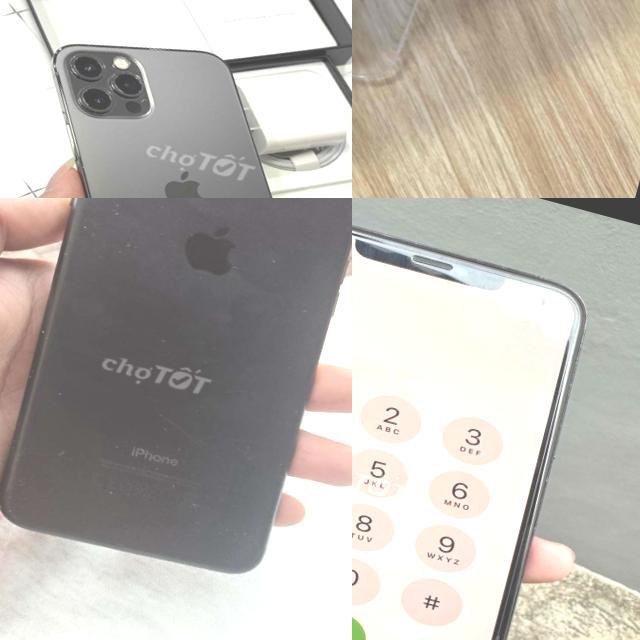gen_11: (352, 225, 585, 640)
gen_12_13: (0, 10, 352, 198)
gen_14: (352, 0, 611, 107)
gen_7_8: (0, 198, 352, 597)
scratch: (352, 198, 603, 308), (142, 402, 296, 471), (152, 477, 266, 551), (101, 426, 187, 478), (87, 198, 154, 263), (280, 290, 314, 316), (96, 481, 118, 498), (151, 198, 175, 213), (56, 238, 72, 259), (260, 249, 281, 264), (53, 438, 67, 460), (157, 328, 176, 344), (196, 353, 216, 368), (290, 396, 306, 414), (48, 387, 64, 401), (193, 272, 209, 284), (281, 362, 294, 373), (76, 218, 90, 228), (36, 325, 47, 336), (187, 226, 194, 234)
